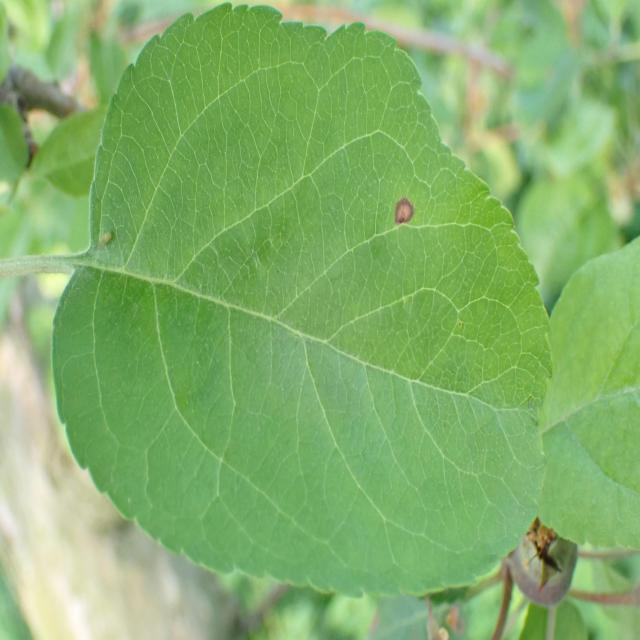frog-eye-leaf-spot: (52, 3, 555, 603)
